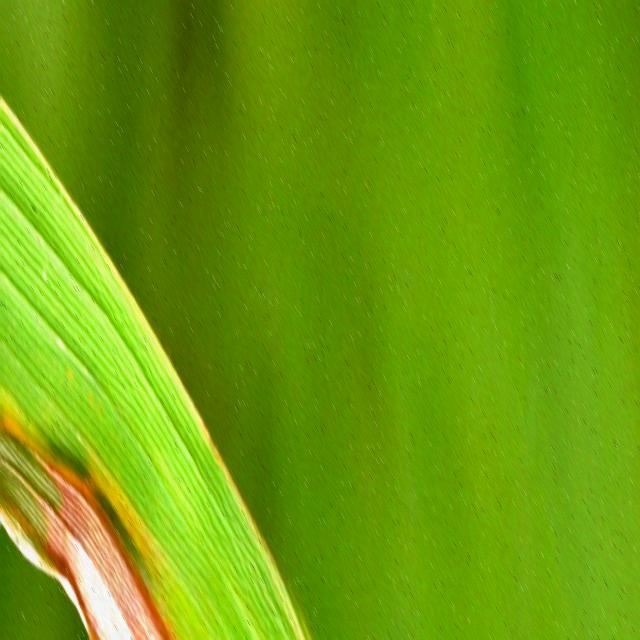BLB: (1, 458, 175, 640)
